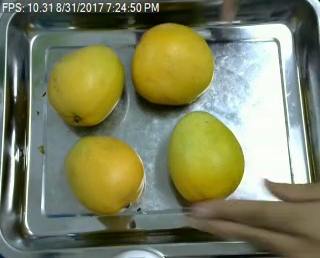Mango: (169, 110, 245, 206), (132, 22, 214, 104), (64, 133, 145, 215), (49, 45, 124, 127)
